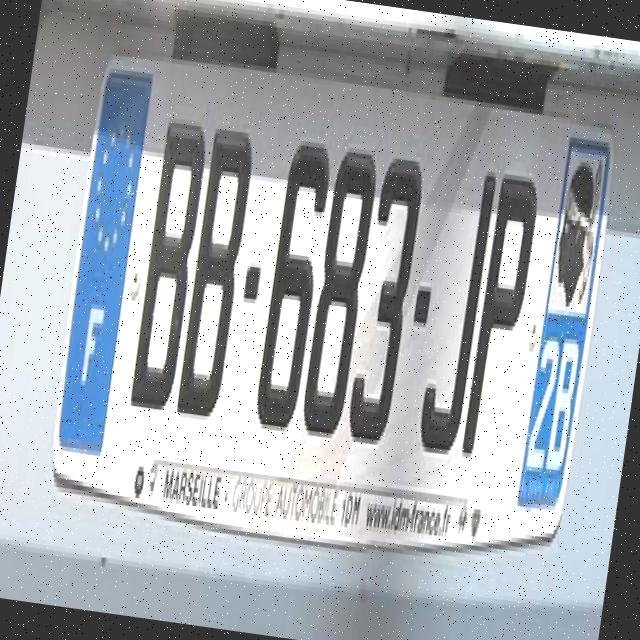EU: (42, 53, 621, 567)
France: (52, 50, 160, 457)
